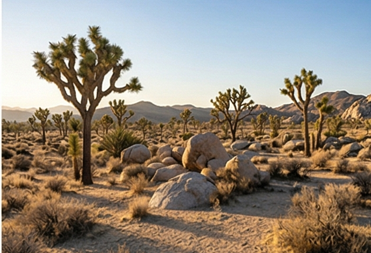rocks: (150, 132, 263, 209), (120, 144, 152, 163)
